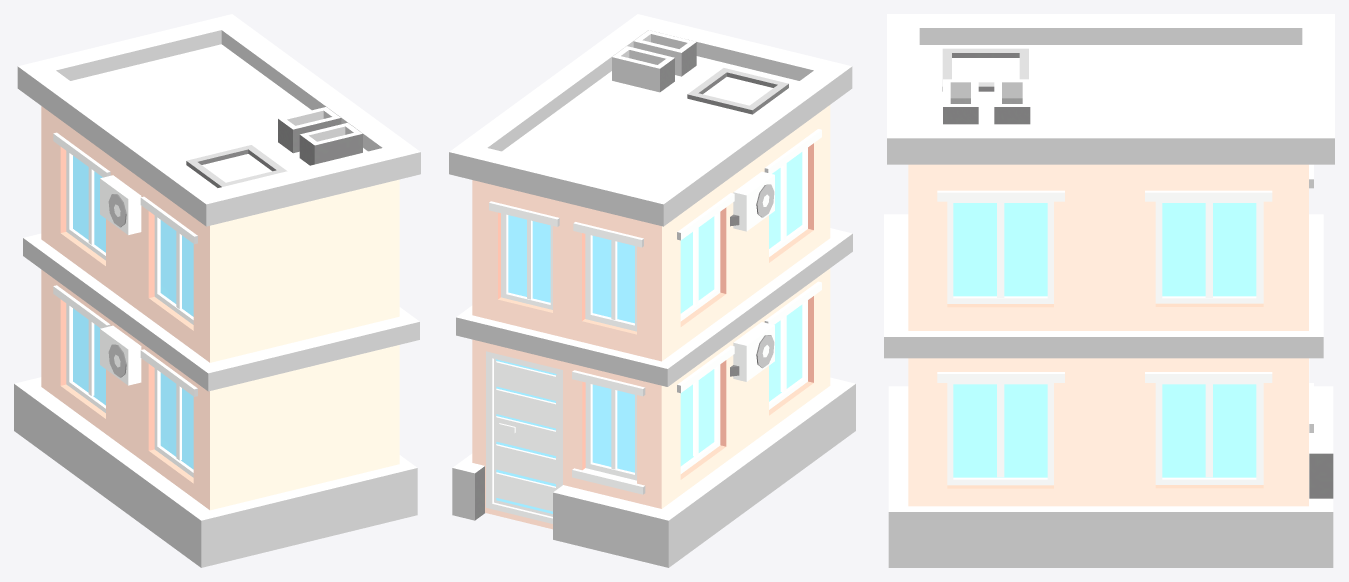
The model's file is dwelling.005.glb.
3 renders of one model, left to right at view 1: azimuth 30°, elevation 25°; view 2: azimuth 150°, elevation 25°; view 3: azimuth 270°, elevation 25°, orthographic. The views are drawn at different scales.
Visible parts, largest first — view 1: dwelling.005(Clone); view 2: dwelling.005(Clone); view 3: dwelling.005(Clone).
Part boxes in pixels (x1,y1,x2,y2): dwelling.005(Clone): (14,14,420,567); dwelling.005(Clone): (449,14,855,567); dwelling.005(Clone): (884,14,1334,567).
Size of the model in its own units: 3.61 by 5.87 by 5.42.
Materials: 1 (1 with a texture image).
